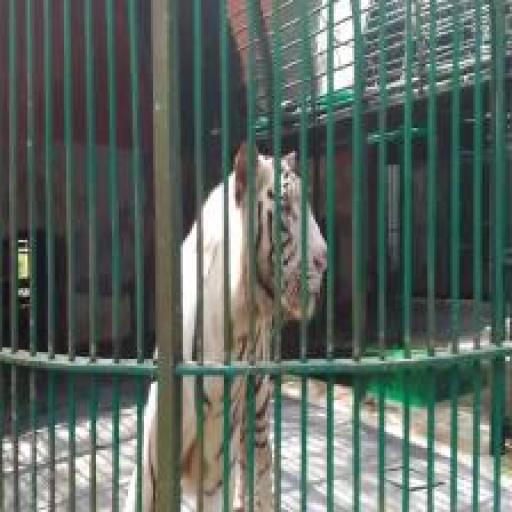Tiger: (123, 132, 327, 512)
